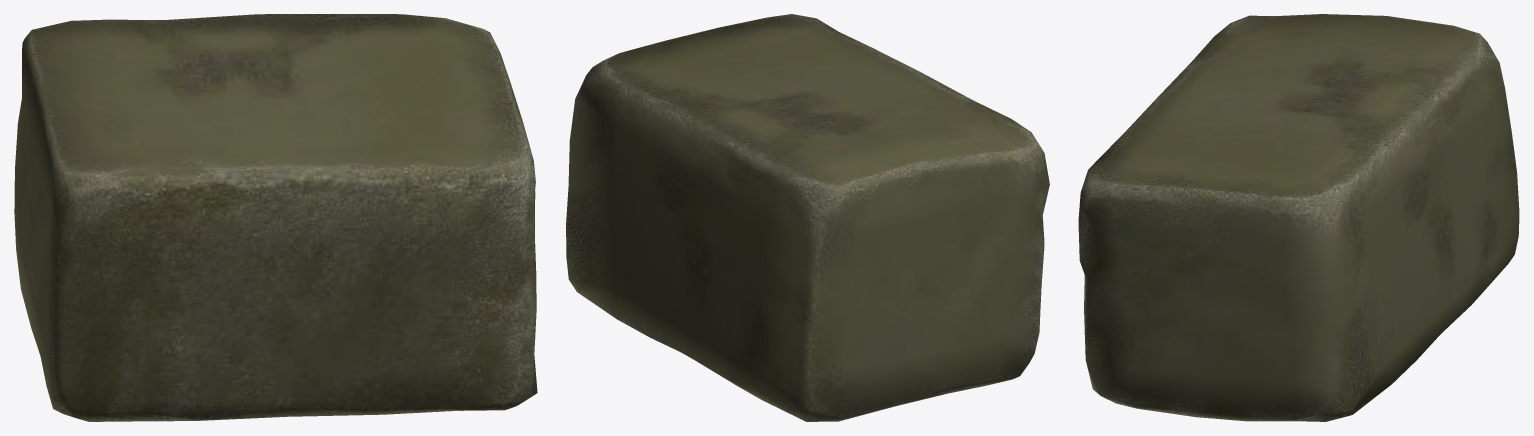
File: brick.glb
3 views of the same model, side by side, from view 1: azimuth 30°, elevation 25°; view 2: azimuth 150°, elevation 25°; view 3: azimuth 270°, elevation 25° (orthographic). The views are drawn at different scales.
Parts seen in each view (by area): view 1: tripo_node_5cce6c89-1274-4dbc-834f-457b2f76544a; view 2: tripo_node_5cce6c89-1274-4dbc-834f-457b2f76544a; view 3: tripo_node_5cce6c89-1274-4dbc-834f-457b2f76544a.
Part boxes in pixels (x1,y1,x2,y2): tripo_node_5cce6c89-1274-4dbc-834f-457b2f76544a: (14,14,537,421); tripo_node_5cce6c89-1274-4dbc-834f-457b2f76544a: (566,14,1049,421); tripo_node_5cce6c89-1274-4dbc-834f-457b2f76544a: (1078,14,1519,421).
Size of the model in its own units: 0.9995 by 0.5688 by 0.8999.
Materials: 1 (1 with a texture image).
